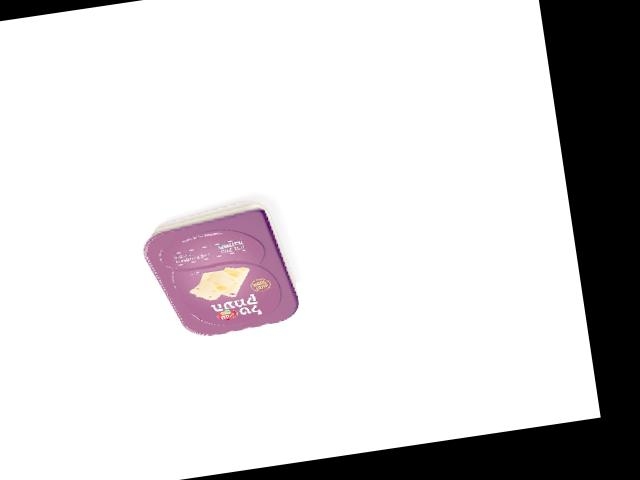cheese: (137, 196, 302, 344)
